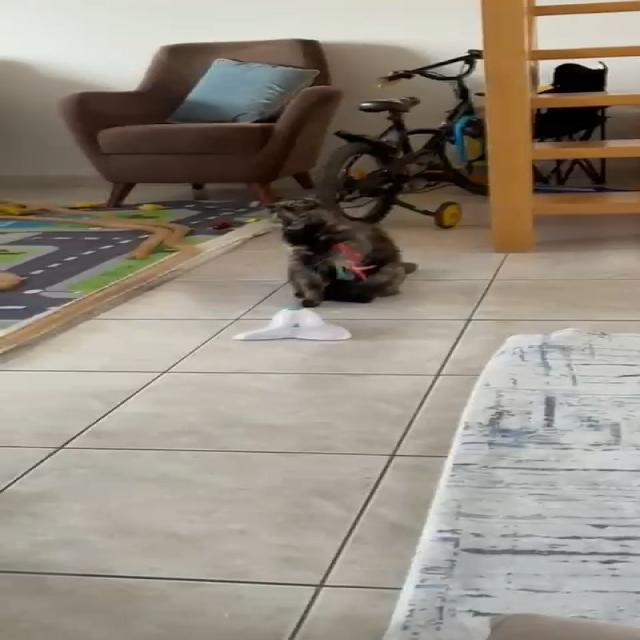authorized: (268, 196, 417, 307)
